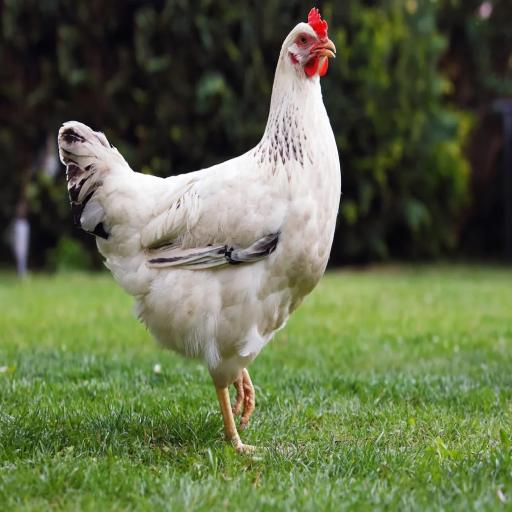healthy: (278, 0, 348, 94)
